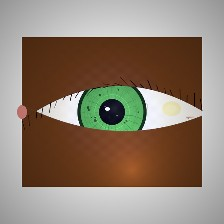pinguecula_lesion: (152, 93, 191, 124)
